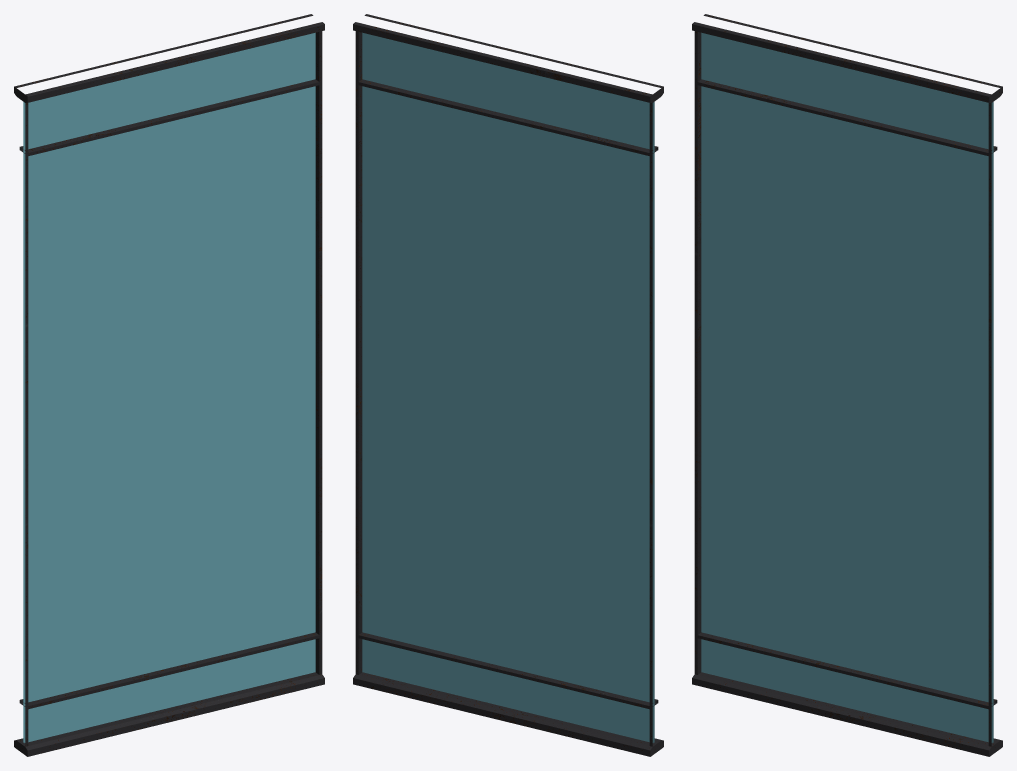
The model's file is Window_01.optimized.glb.
3 views of the same model, side by side, from view 1: azimuth 30°, elevation 25°; view 2: azimuth 150°, elevation 25°; view 3: azimuth 330°, elevation 25° (orthographic).
Visible parts, largest first — view 1: Window_01_Glass_in, Window_01; view 2: Window_01_Glass_in, Window_01; view 3: Window_01_Glass_in, Window_01.
Boxes of the visible parts, x1,y1,x2,y2 form: Window_01_Glass_in: (23,32,315,742); Window_01: (14,14,324,756); Window_01_Glass_in: (362,32,654,742); Window_01: (353,14,663,756); Window_01_Glass_in: (701,32,993,742); Window_01: (692,14,1002,756).
Size of the model in its own units: 2 by 4.25 by 0.1593.
2 materials, 1 textured.
